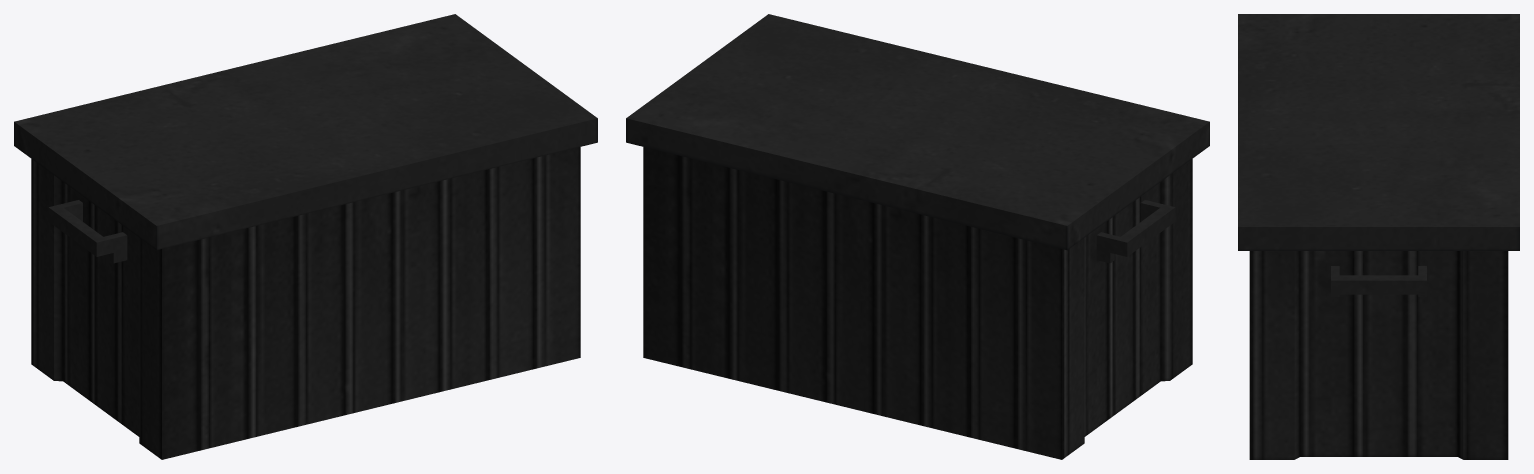
File: Crate.fbx
The picture shows the model from 3 angles, left to right: view 1: azimuth 30°, elevation 25°; view 2: azimuth 150°, elevation 25°; view 3: azimuth 270°, elevation 25°; orthographic projection.
Parts seen in each view (by area): view 1: Crate; view 2: Crate; view 3: Crate.
Boxes of the visible parts, box(x1,y1,x2,y2) form: Crate: box(14, 14, 597, 459); Crate: box(626, 14, 1209, 459); Crate: box(1238, 14, 1519, 459).
Bounding box in the file's own units: 119 × 58.82 × 63.03.
